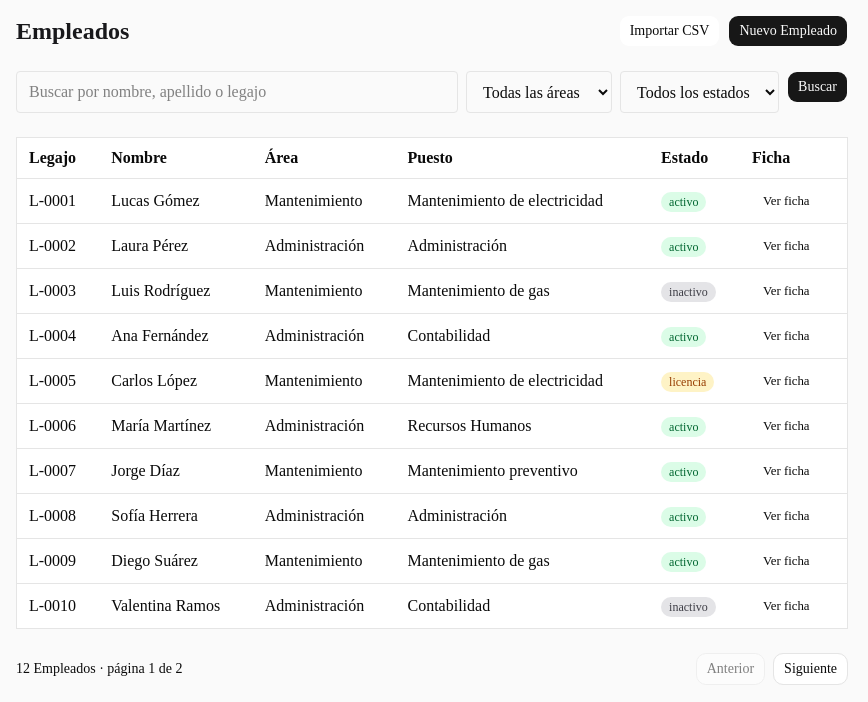
Test: EmpleadosPage › filtra por búsqueda y estado
Expected: the text "Lucas Gómez" is shown, [99, 178, 253, 224]
Type "lucas" into the field with placeholder "Buscar por nombre, apellido o legajo". click: (237, 92)
box: [16, 71, 458, 113]
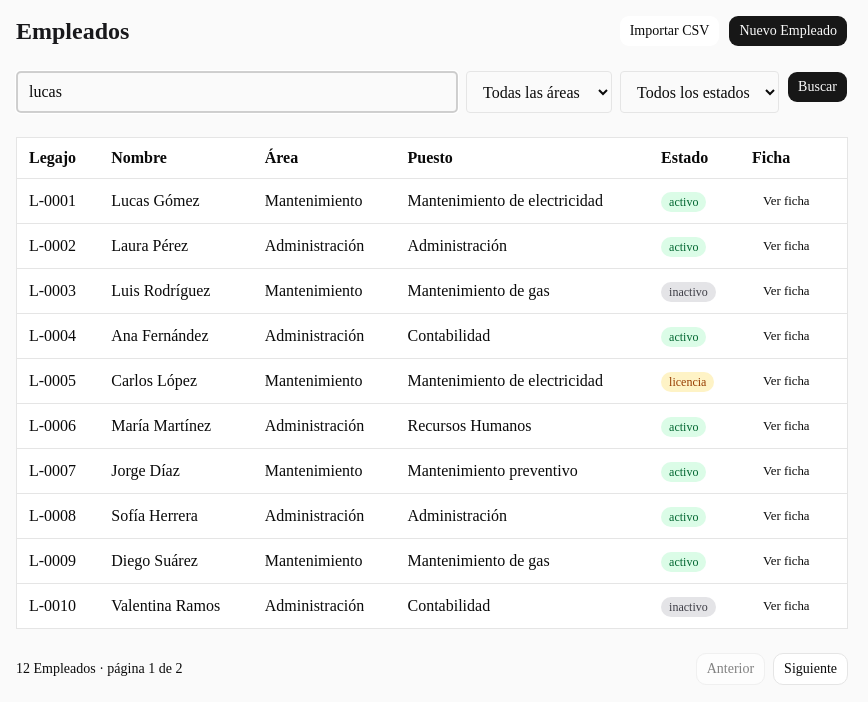
Click the button "Buscar". click: (818, 87)
box: [787, 71, 848, 103]
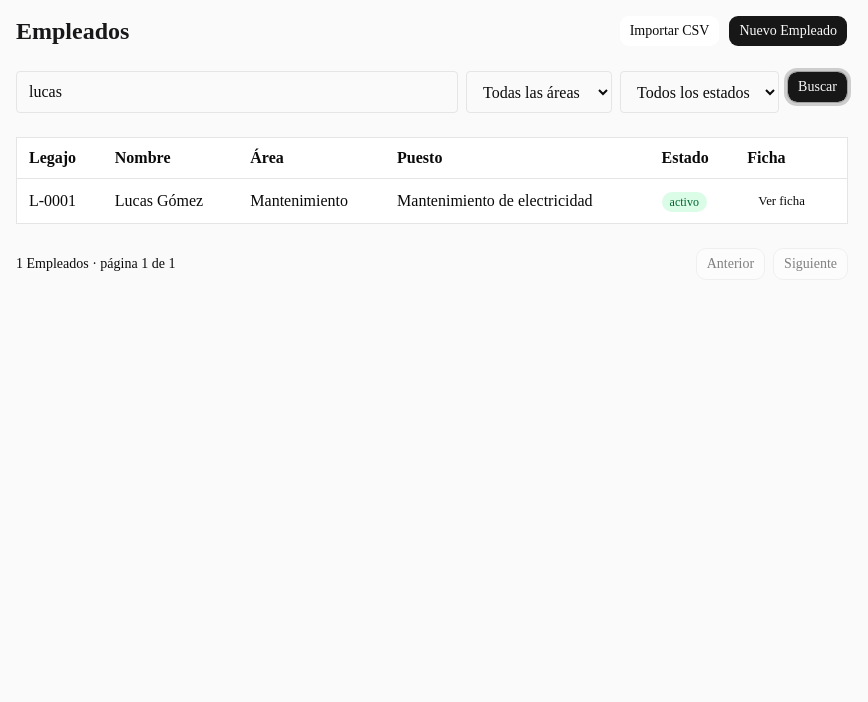
Expected: the text "Lucas Gómez" is shown, [103, 178, 238, 224]
Expected: the text "1 Empleados · página 1 de 1" is shown, [16, 254, 175, 274]
Select "Inactivo" in the 2nd dropdown showing "todos los estados". click: (700, 92)
box: [620, 71, 779, 113]
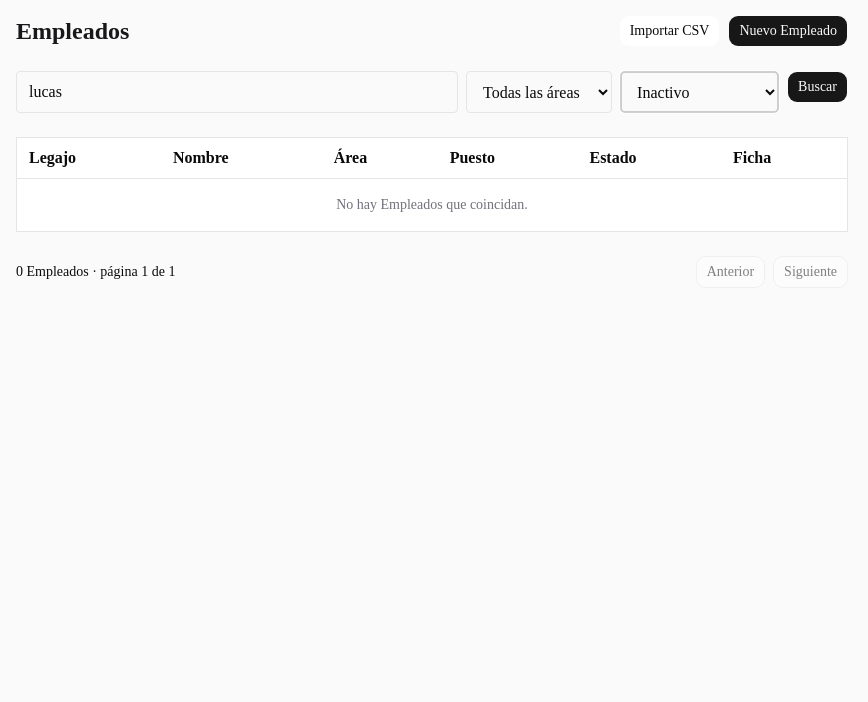
Expected: the text "No hay Empleados que coincidan." is shown, [16, 178, 848, 232]
